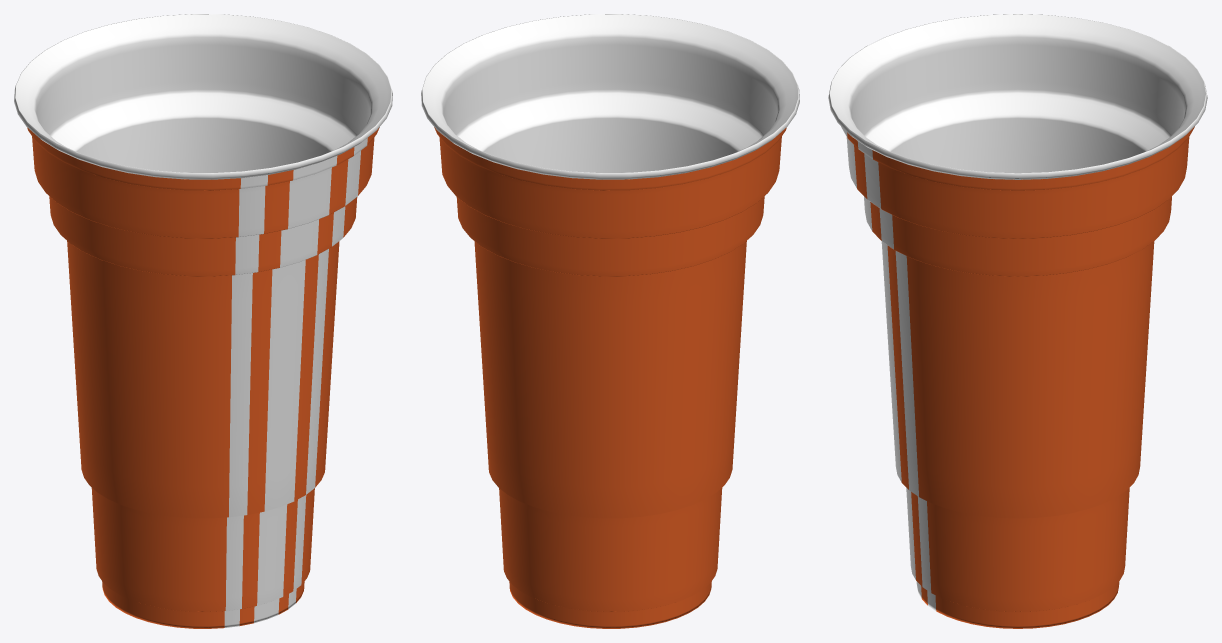
Rendered from Red_cup_2.fbx.
The picture shows the model from 3 angles, left to right: view 1: azimuth 30°, elevation 25°; view 2: azimuth 150°, elevation 25°; view 3: azimuth 270°, elevation 25°; orthographic projection.
Parts seen in each view (by area): view 1: Red_Cup; view 2: Red_Cup; view 3: Red_Cup.
Boxes of the visible parts, <box> form: Red_Cup: <box>14,14,392,628</box>; Red_Cup: <box>421,14,799,628</box>; Red_Cup: <box>828,14,1207,628</box>.
Bounding box in the file's own units: 4.82 × 6.91 × 4.82.
